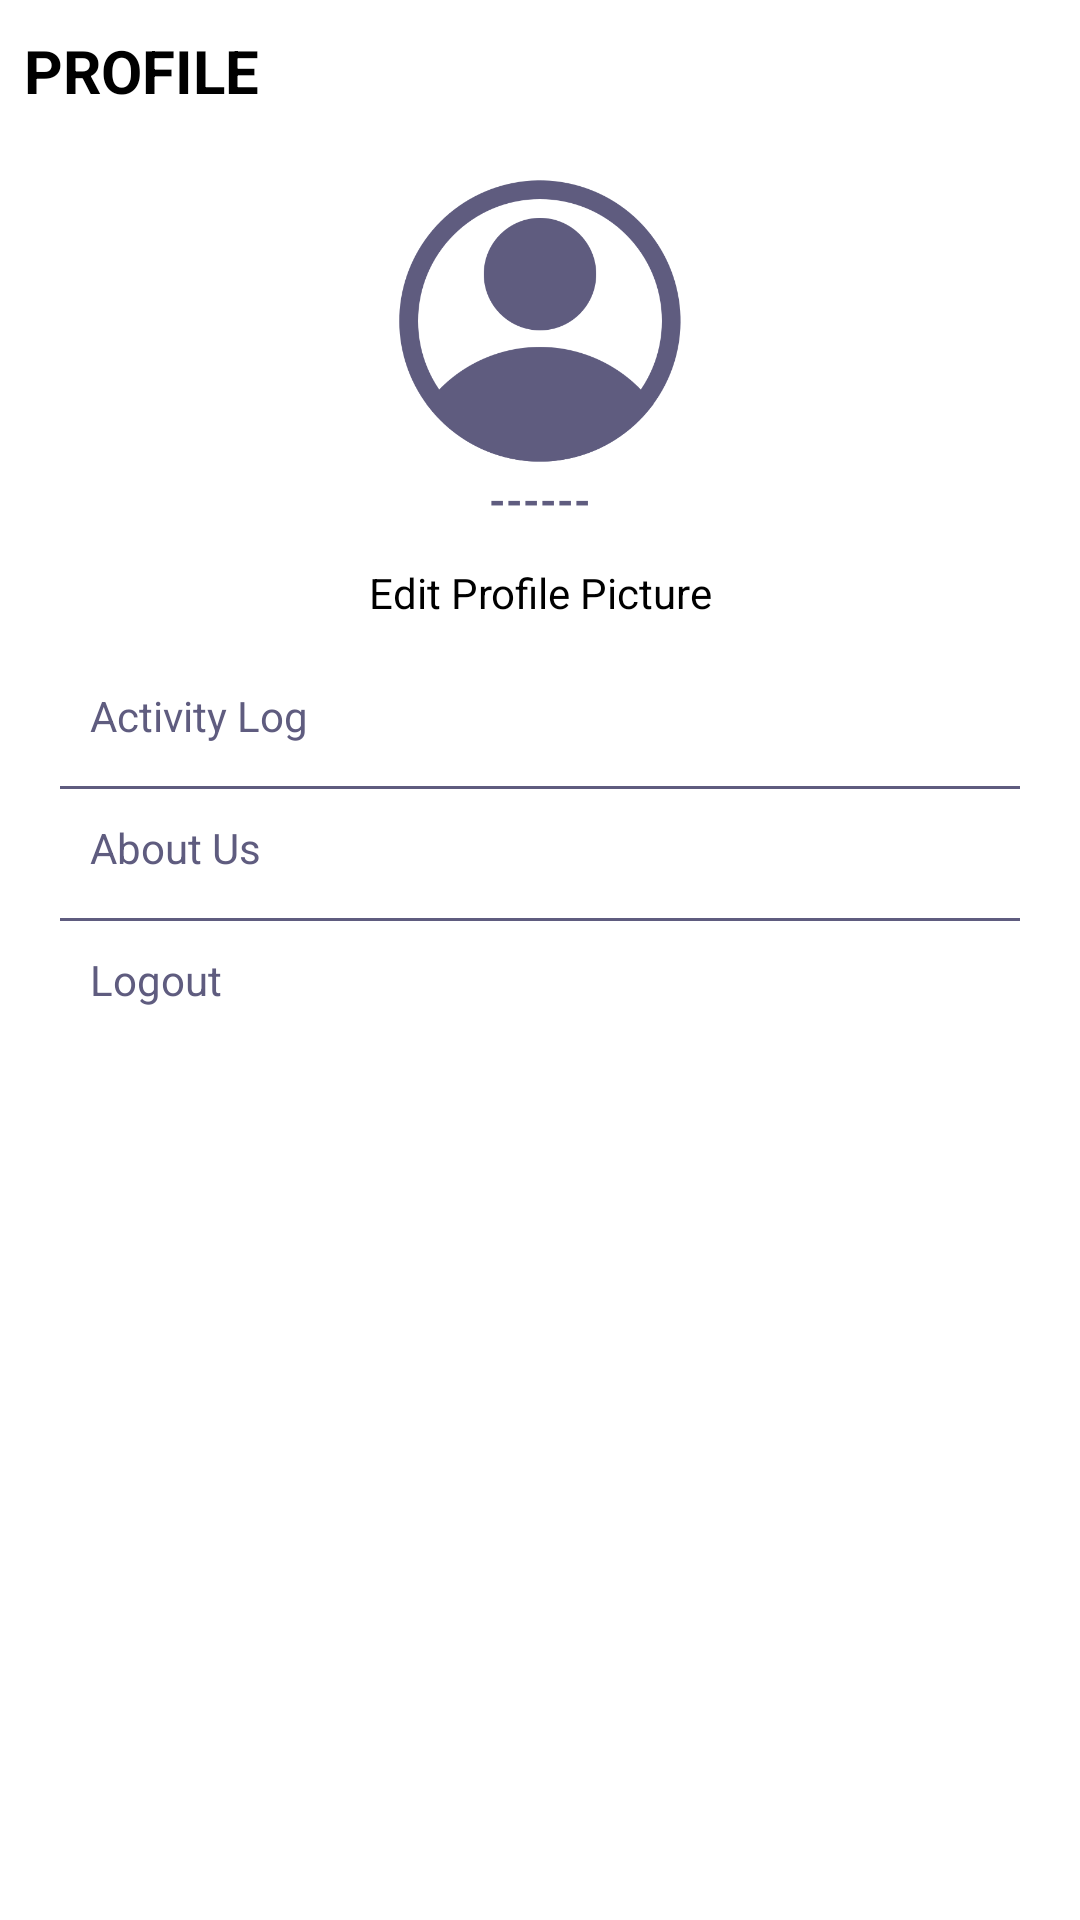

Named icons in this screenshot (1080x1920) and their centers, [x,y]:
account: [540,321]
